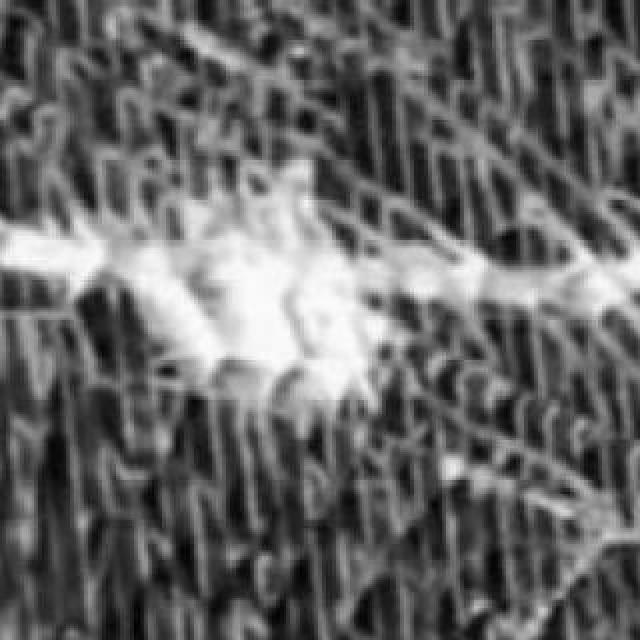Physical-damage: (78, 122, 450, 528)
